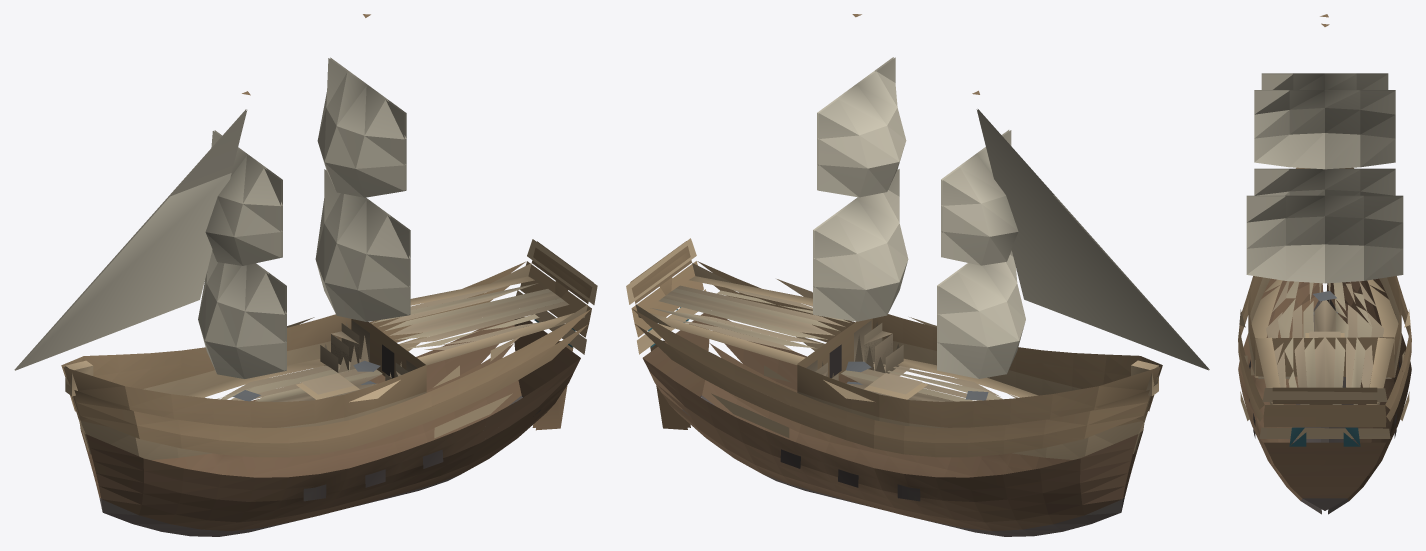
The model's file is brig.lod.glb.
The picture shows the model from 3 angles, left to right: view 1: azimuth 30°, elevation 25°; view 2: azimuth 150°, elevation 25°; view 3: azimuth 270°, elevation 25°; orthographic projection. The views are drawn at different scales.
Visible parts, largest first — view 1: brig; view 2: brig; view 3: brig.
Part boxes in pixels (<box>): brig: <box>14,14,597,536</box>; brig: <box>626,14,1209,536</box>; brig: <box>1238,14,1411,514</box>.
Size of the model in its own units: 15.86 by 13.2 by 4.62.
